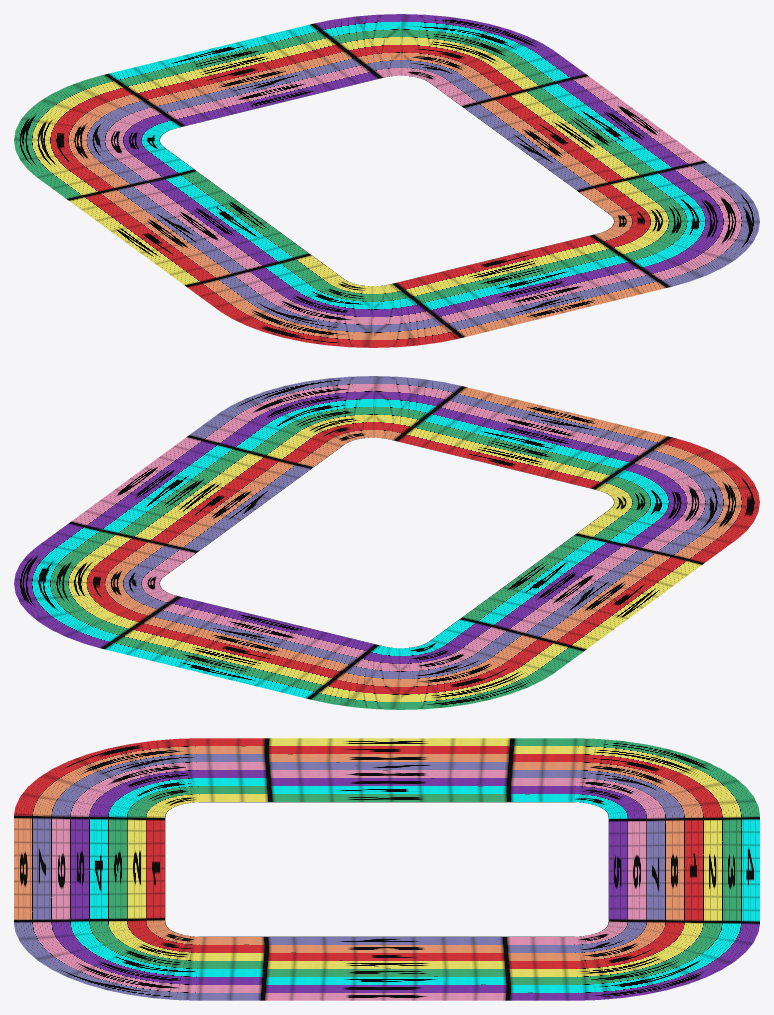
Rendered from Outer.fbx.
The picture shows the model from 3 angles, top to bottom: view 1: azimuth 30°, elevation 25°; view 2: azimuth 150°, elevation 25°; view 3: azimuth 270°, elevation 25°; orthographic projection. The views are drawn at different scales.
Visible parts, largest first — view 1: Outer; view 2: Outer; view 3: Outer.
Part boxes in pixels (left/top/right/bottom): Outer: left=14, top=14, right=759, bottom=347; Outer: left=14, top=376, right=759, bottom=709; Outer: left=14, top=738, right=759, bottom=1000.
Size of the model in its own units: 614 by 0.000122 by 738.
